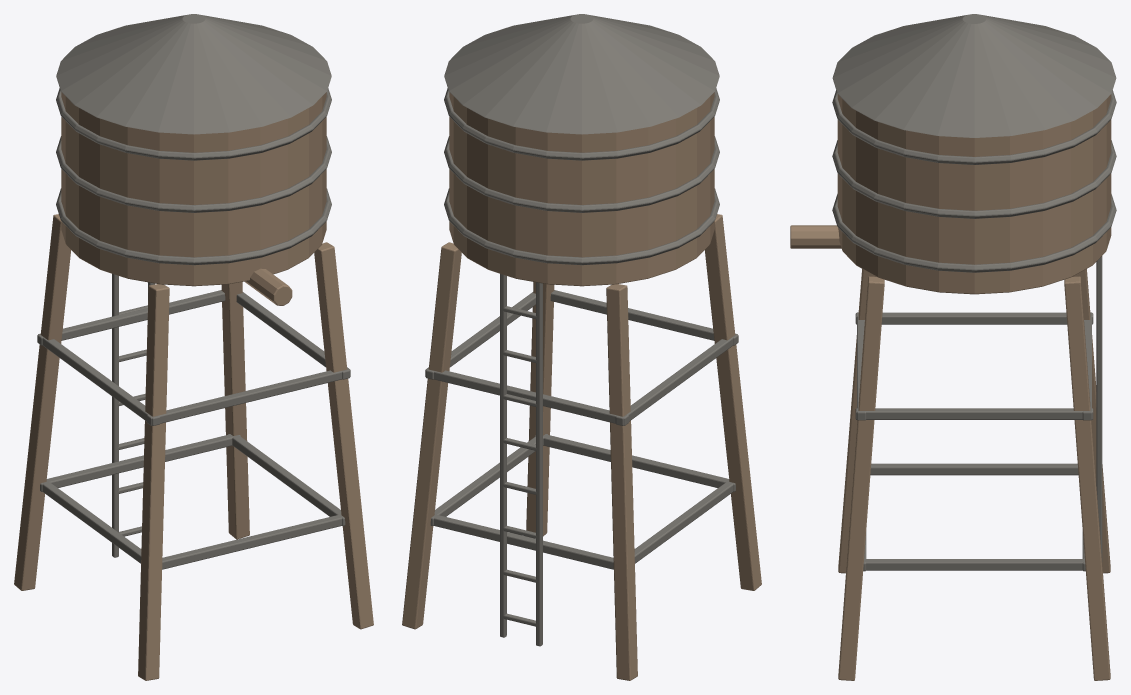
File: watertower.glb
3 views of the same model, side by side, from view 1: azimuth 30°, elevation 25°; view 2: azimuth 150°, elevation 25°; view 3: azimuth 270°, elevation 25° (orthographic). The views are drawn at different scales.
Parts seen in each view (by area): view 1: leg; view 2: leg; view 3: leg.
Part boxes in pixels (bbox=[...]): leg: bbox=[14, 14, 373, 680]; leg: bbox=[402, 14, 761, 680]; leg: bbox=[790, 14, 1116, 680].
Size of the model in its own units: 2.39 by 5.62 by 2.75.
